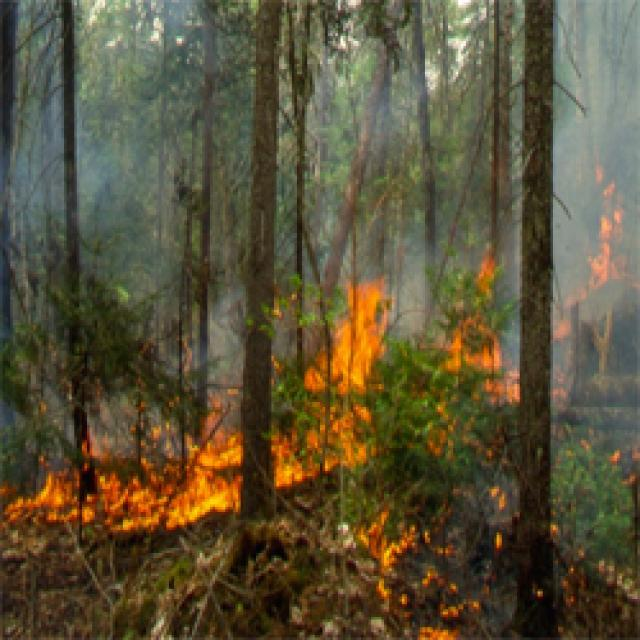Fire: (0, 382, 279, 544), (278, 266, 414, 520), (449, 234, 544, 424), (333, 506, 433, 612), (568, 142, 620, 310), (412, 382, 500, 465), (573, 431, 640, 515), (474, 458, 522, 560), (404, 596, 488, 640), (556, 536, 584, 628)
Smoke: (0, 0, 180, 278), (526, 0, 640, 421), (323, 30, 469, 350)
